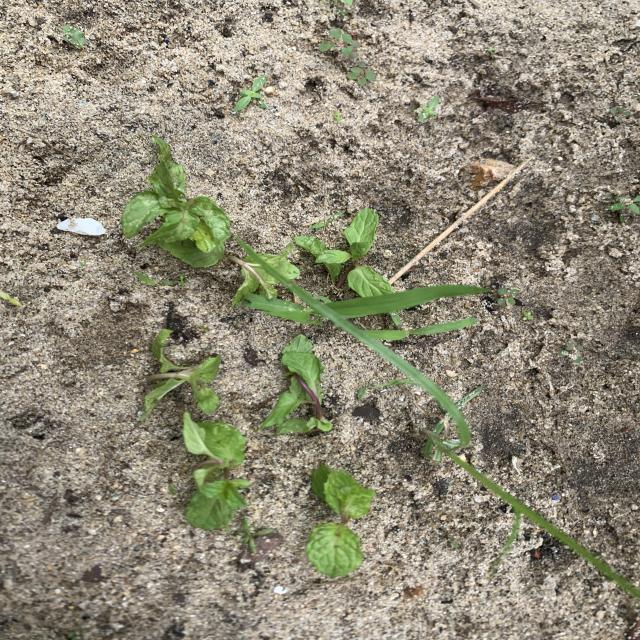crop: (121, 137, 231, 267), (295, 209, 395, 297), (306, 465, 375, 578), (183, 412, 249, 530), (140, 329, 221, 420), (261, 335, 332, 434), (228, 245, 300, 306)
weed: (281, 281, 640, 598), (324, 285, 490, 328), (367, 318, 477, 341), (244, 294, 326, 324), (356, 378, 417, 401), (240, 519, 274, 554), (234, 77, 267, 112), (319, 28, 359, 56), (609, 194, 640, 223), (134, 271, 186, 287), (346, 61, 376, 86), (309, 210, 344, 231), (607, 103, 637, 127), (415, 95, 440, 123), (497, 288, 522, 306), (0, 290, 24, 307), (332, 110, 343, 123), (523, 311, 534, 322)
